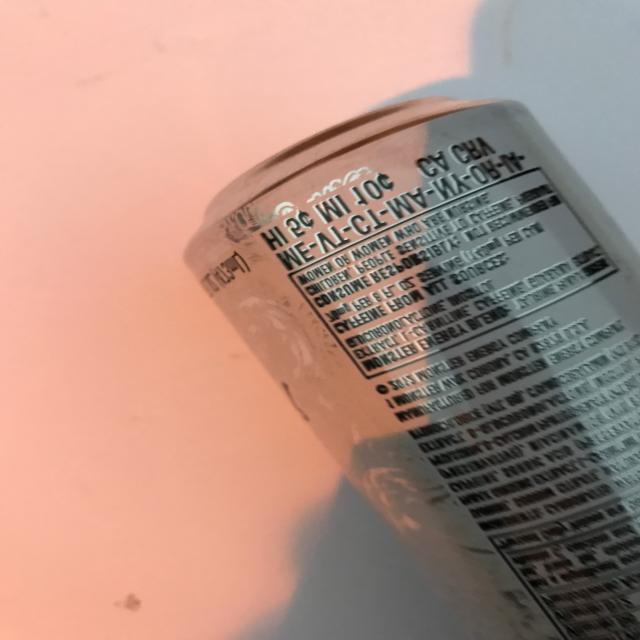metal: (181, 94, 640, 639)
